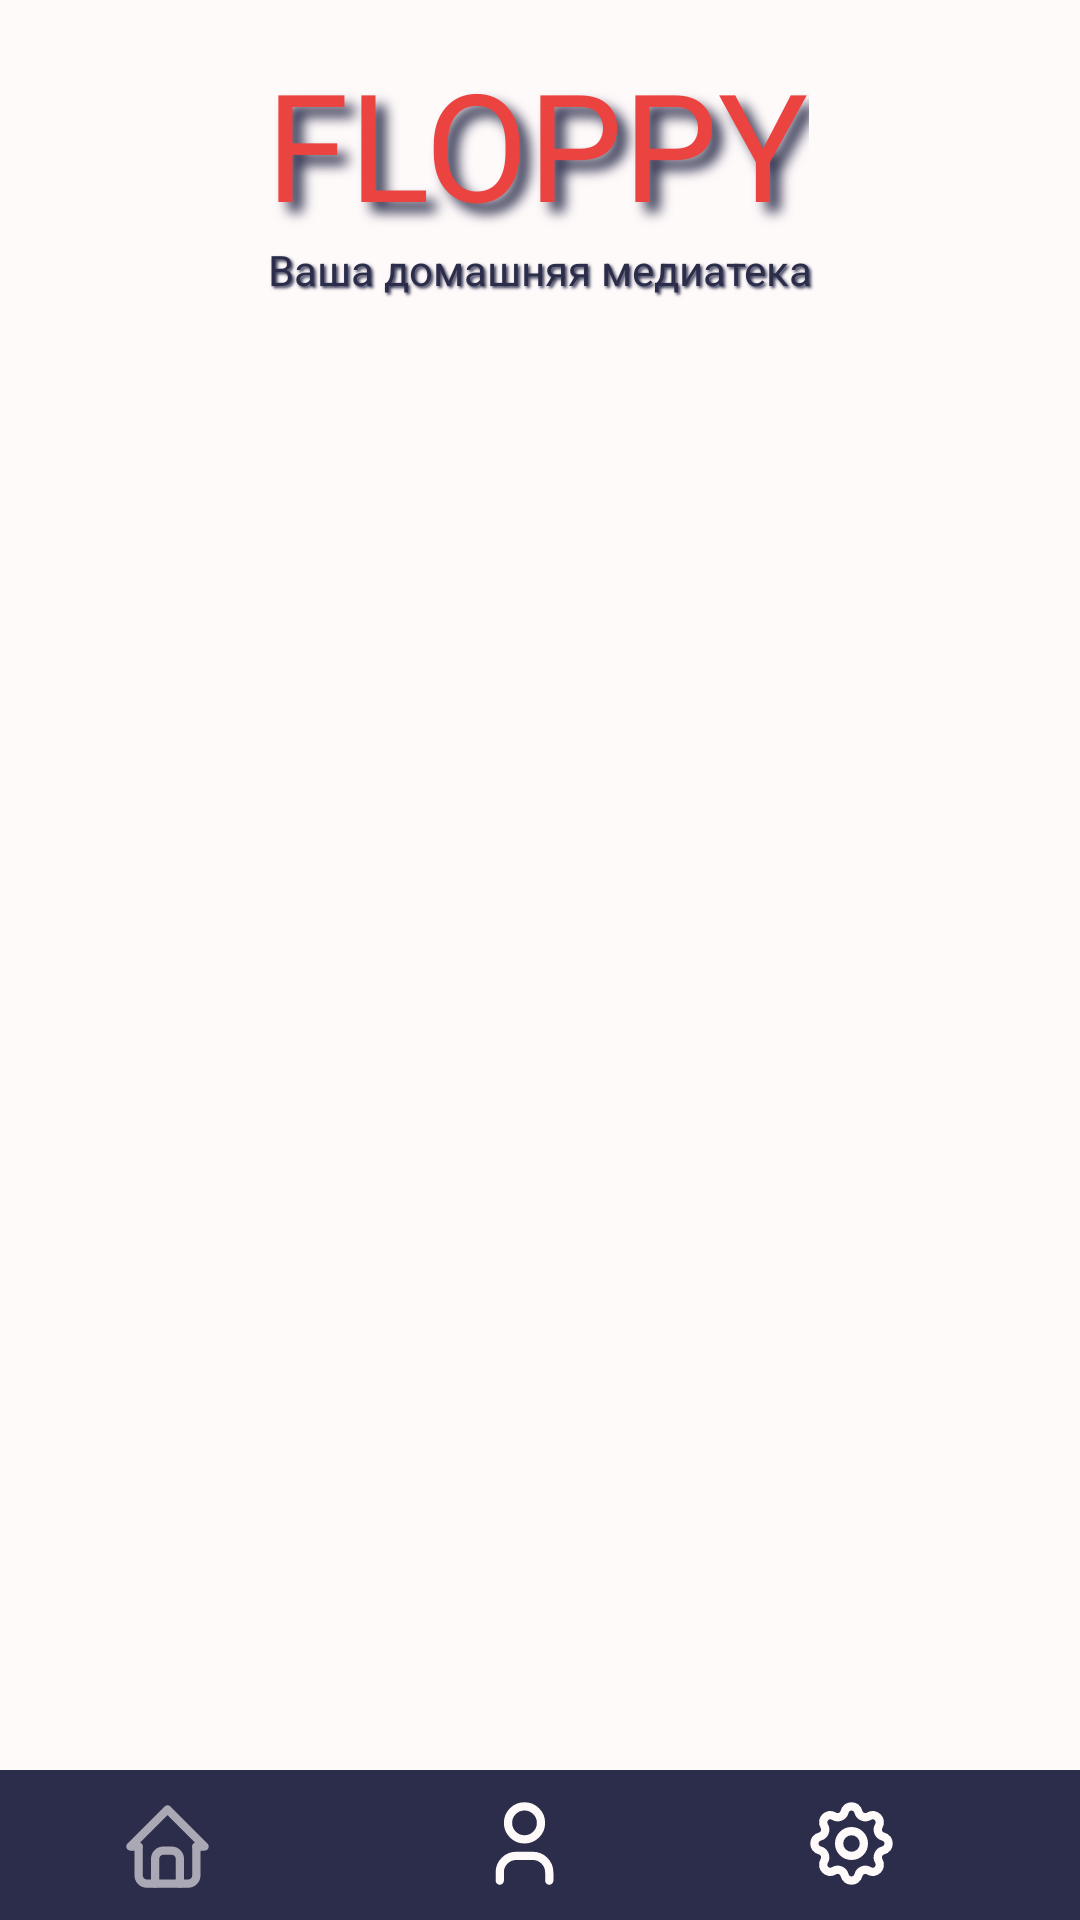

Point at icon controls on the screen. Image size 1080px x 1920px, points as (x=x, y=y).
home: (x=167, y=1846)
settings: (x=851, y=1843)
user: (x=524, y=1843)
